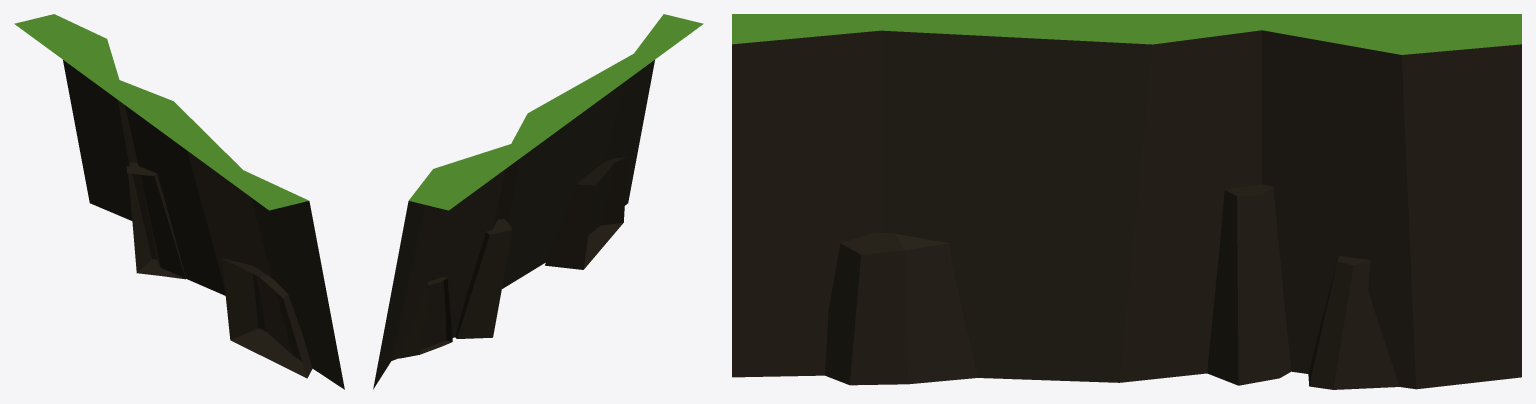
The model's file is CliffB.fbx.
3 views of the same model, side by side, from view 1: azimuth 30°, elevation 25°; view 2: azimuth 150°, elevation 25°; view 3: azimuth 270°, elevation 25° (orthographic). The views are drawn at different scales.
Parts seen in each view (by area): view 1: CliffB; view 2: CliffB; view 3: CliffB.
Boxes of the visible parts, <box> form: CliffB: <box>14,14,344,389</box>; CliffB: <box>373,14,703,389</box>; CliffB: <box>732,14,1521,389</box>.
Size of the model in its own units: 105 by 214 by 500.
